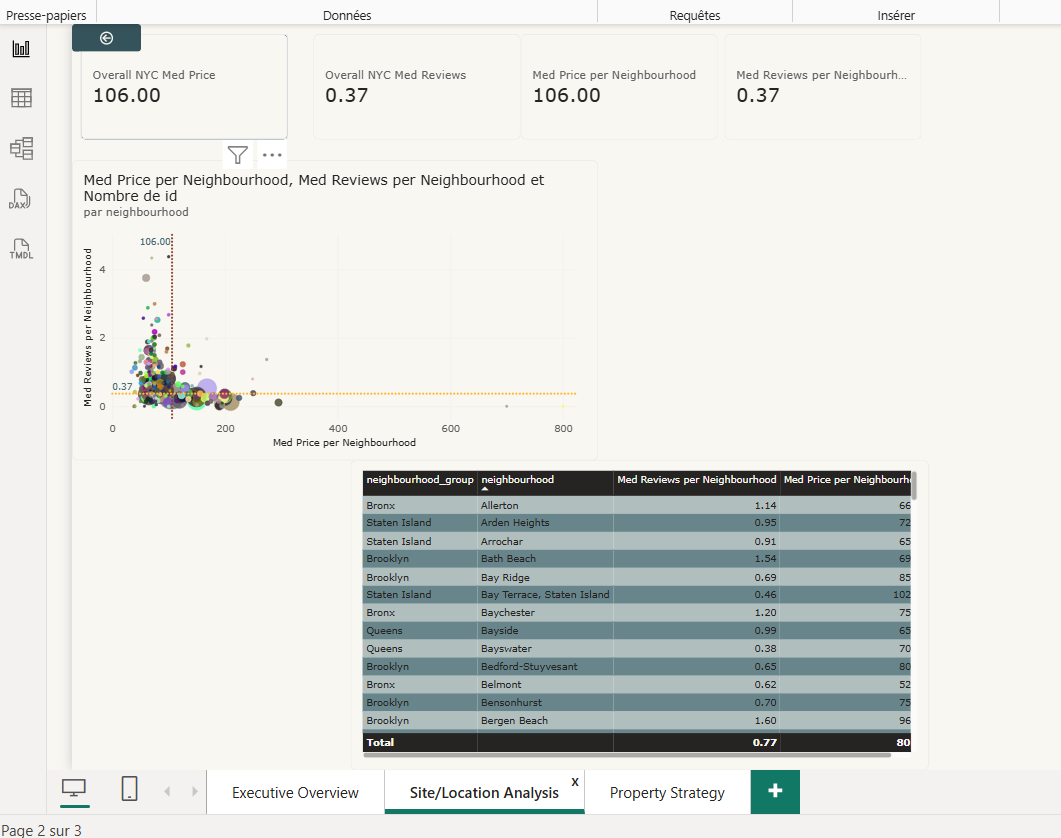

Layout of this report page (visuals, bound fields, positions):
{"tool":"powerbi","page":{"name":"Site/Location Analysis","canvas":[1920,1080],"ordinal":1},"visuals":[{"type":"scatterChart","fields":{"Series":["Sheet1.neighbourhood"],"Size":["CountNonNull(Sheet1.id)"],"X":["Sheet1.Med Price per Neighbourhood"],"Y":["Sheet1.Med Reviews per Neighbourhood"]},"box":[0,197.1,761.4,434.3],"z":0},{"type":"cardVisual","fields":{"Data":["Sheet1.Overall NYC Med Price"]},"box":[12.9,14.3,300,153],"z":1000},{"type":"cardVisual","fields":{"Data":["Sheet1.Overall NYC Med Reviews"]},"box":[348.6,14.3,300,153],"z":2000},{"type":"cardVisual","fields":{"Data":["Sheet1.Med Price per Neighbourhood"]},"box":[649,14,285,153],"z":3000},{"type":"cardVisual","fields":{"Data":["Sheet1.Med Reviews per Neighbourhood"]},"box":[944,14,285,153],"z":4000},{"type":"tableEx","fields":{"Values":["Sheet1.neighbourhood_group","Sheet1.neighbourhood","Sheet1.Med Reviews per Neighbourhood","Sheet1.Med Price per Neighbourhood"]},"box":[402.9,631.4,837.1,448.6],"z":5000},{"type":"actionButton","box":[0,0,100,40],"z":6000}]}

Visuals, with their boxes on the page's 1920x1080 design canvas (x1, y1, x2, y2). These are canvas units, not pixel positions in the 1061x838 screenshot, which may show the page scaled, cropped or inside an application window:
scatterChart - Sheet1.neighbourhood x CountNonNull(Sheet1.id): bbox=(0, 197, 761, 631)
cardVisual - Sheet1.Overall NYC Med Price: bbox=(13, 14, 313, 167)
cardVisual - Sheet1.Overall NYC Med Reviews: bbox=(349, 14, 649, 167)
cardVisual - Sheet1.Med Price per Neighbourhood: bbox=(649, 14, 934, 167)
cardVisual - Sheet1.Med Reviews per Neighbourhood: bbox=(944, 14, 1229, 167)
tableEx - Sheet1.neighbourhood_group x Sheet1.neighbourhood: bbox=(403, 631, 1240, 1080)
actionButton: bbox=(0, 0, 100, 40)
